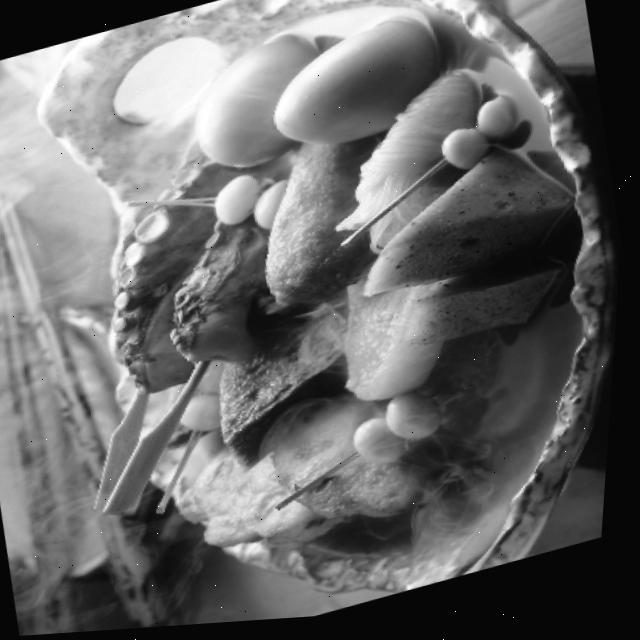汤锅炖物: (54, 0, 640, 594)
